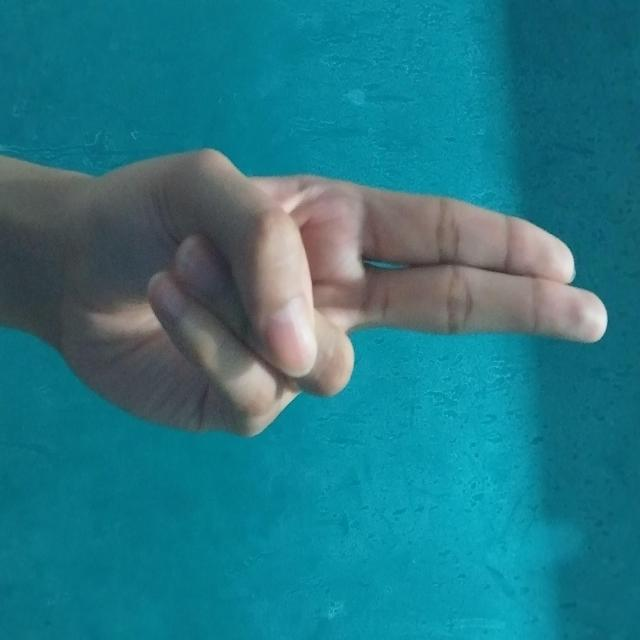U: (146, 33, 440, 591)
